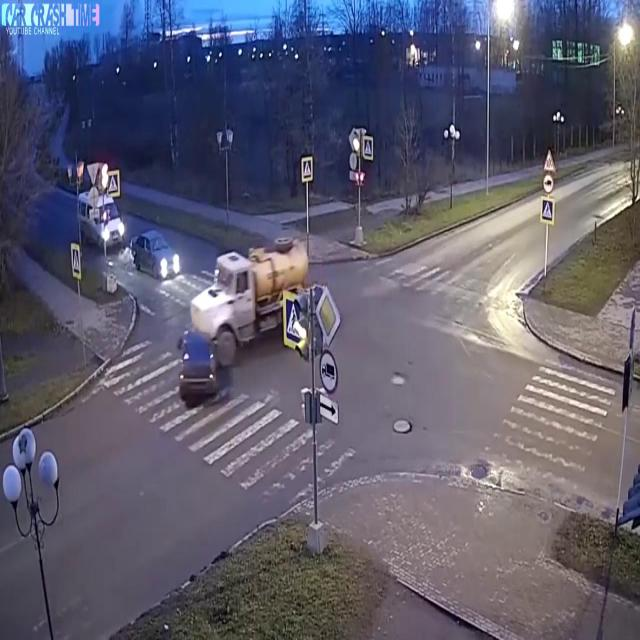accident: (167, 219, 335, 417)
